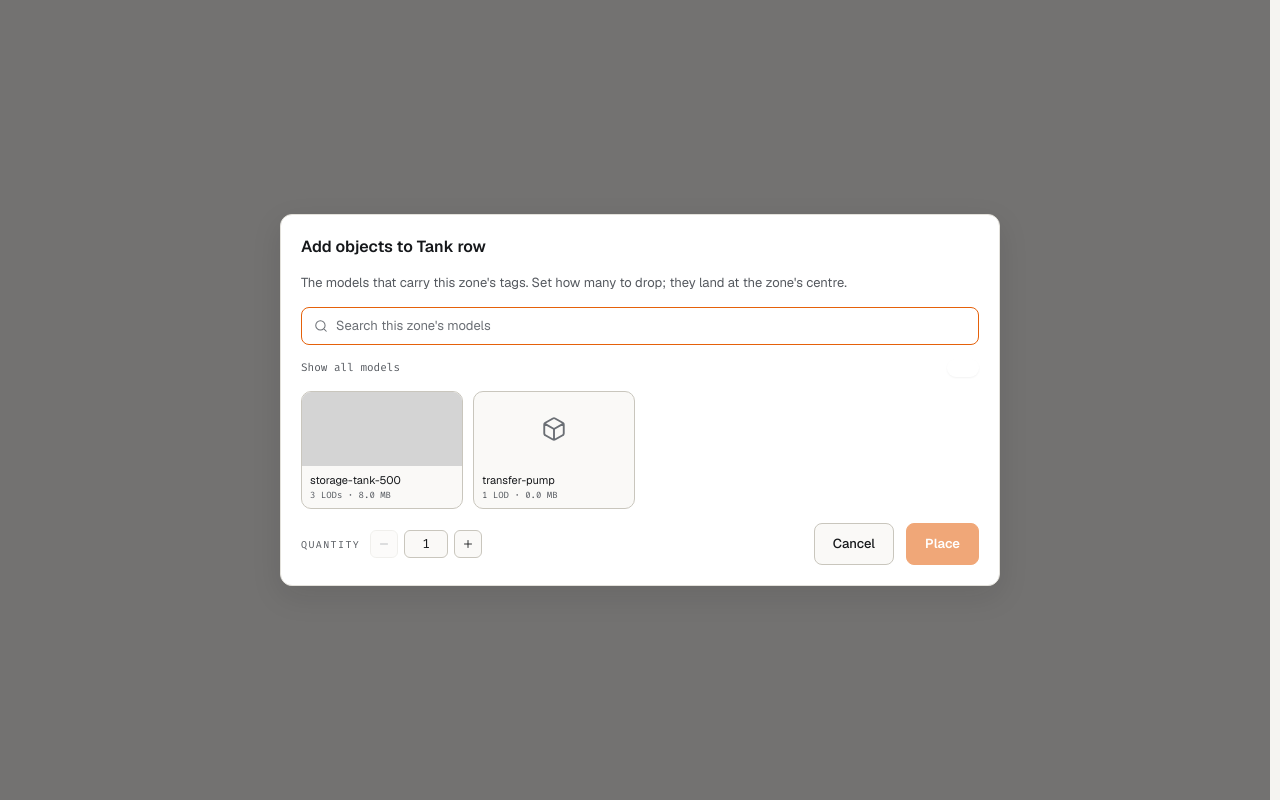
it: PlaceObjectsModal, opened from a zone › searches inside whichever list is showing, and says which
In the search field labelled "Search this zone's models": (651,326) [336,316,966,336], type "pump"
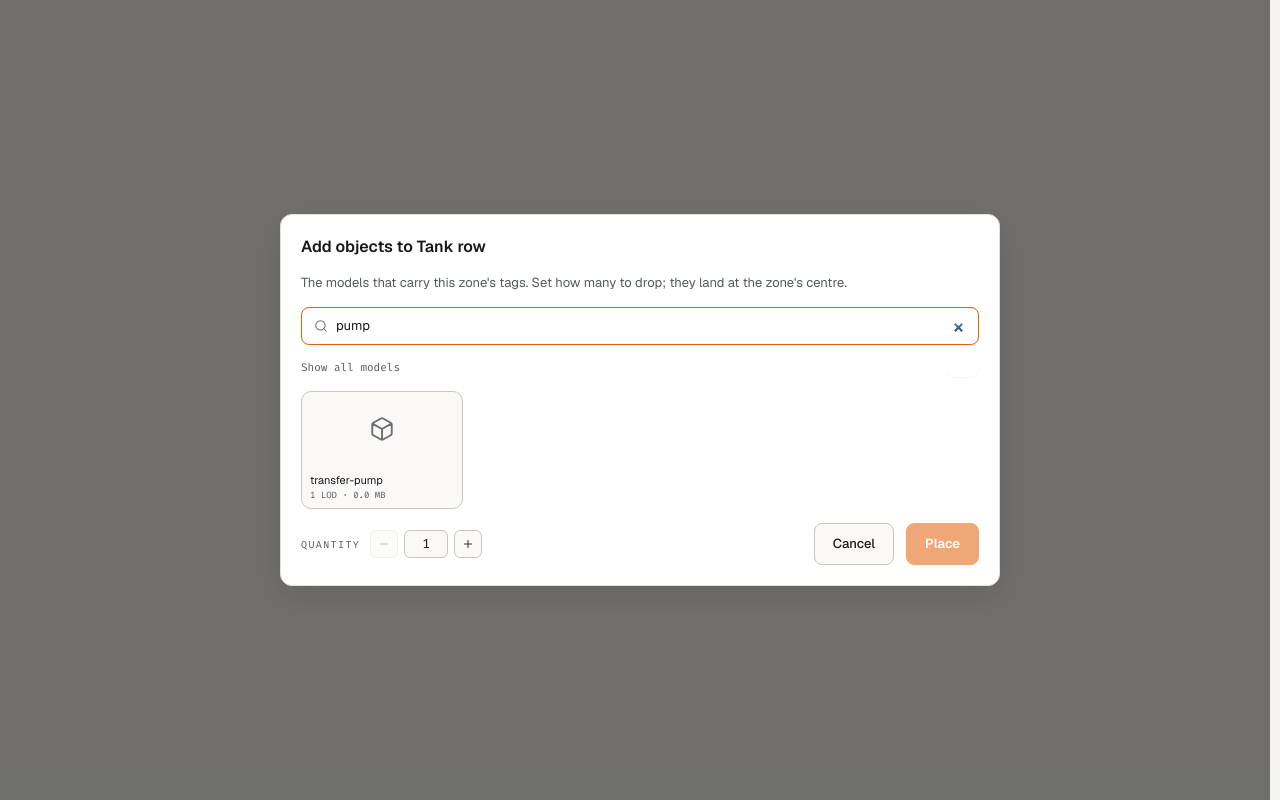
Expected: the button "transfer-pump 1 LOD · 0.0 MB" is shown, [302,392,462,508]
Result: the button "storage-tank-500" is gone
